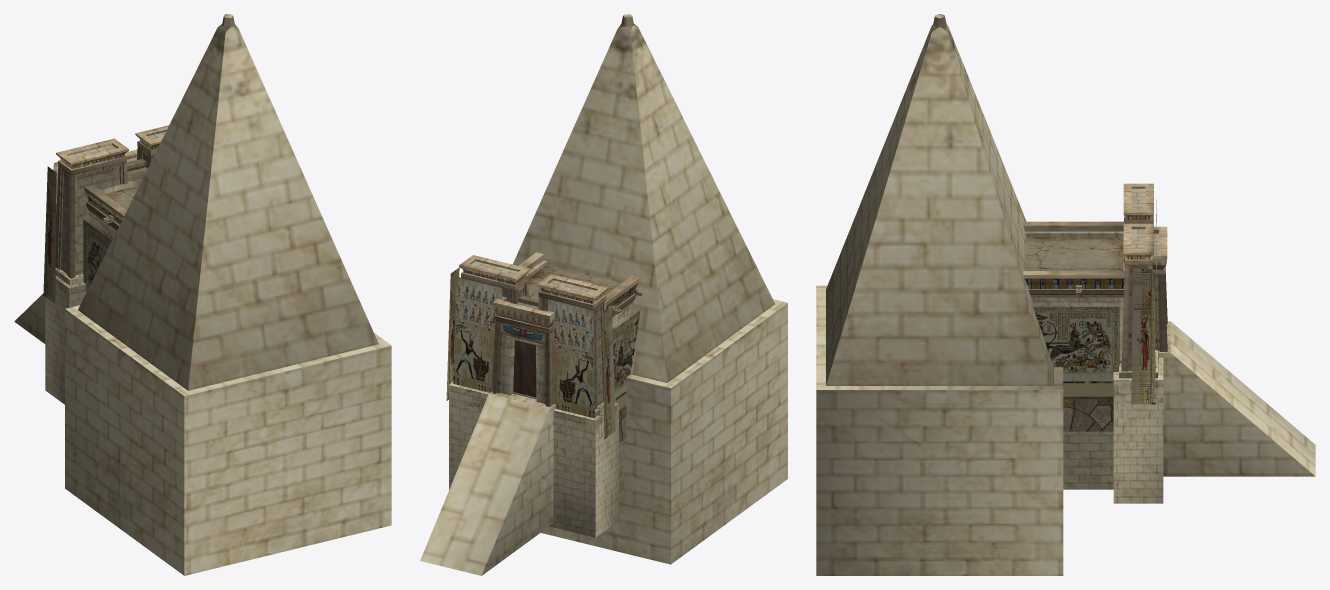
The model's file is kush_pyramid_large.glb.
3 views of the same model, side by side, from view 1: azimuth 30°, elevation 25°; view 2: azimuth 150°, elevation 25°; view 3: azimuth 270°, elevation 25° (orthographic). The views are drawn at different scales.
Visible parts, largest first — view 1: kush_pyramid_large_part0, kush_pyramid_large_part1; view 2: kush_pyramid_large_part0, kush_pyramid_large_part1; view 3: kush_pyramid_large_part0, kush_pyramid_large_part1.
Part boxes in pixels (<box>): kush_pyramid_large_part0: <box>14,14,391,575</box>; kush_pyramid_large_part1: <box>43,162,111,303</box>; kush_pyramid_large_part0: <box>420,14,787,575</box>; kush_pyramid_large_part1: <box>446,267,640,443</box>; kush_pyramid_large_part0: <box>816,14,1315,575</box>; kush_pyramid_large_part1: <box>1033,199,1158,431</box>.
Bounding box in the file's own units: 3.22 × 7.29 × 6.5.
2 materials, 2 textured.
